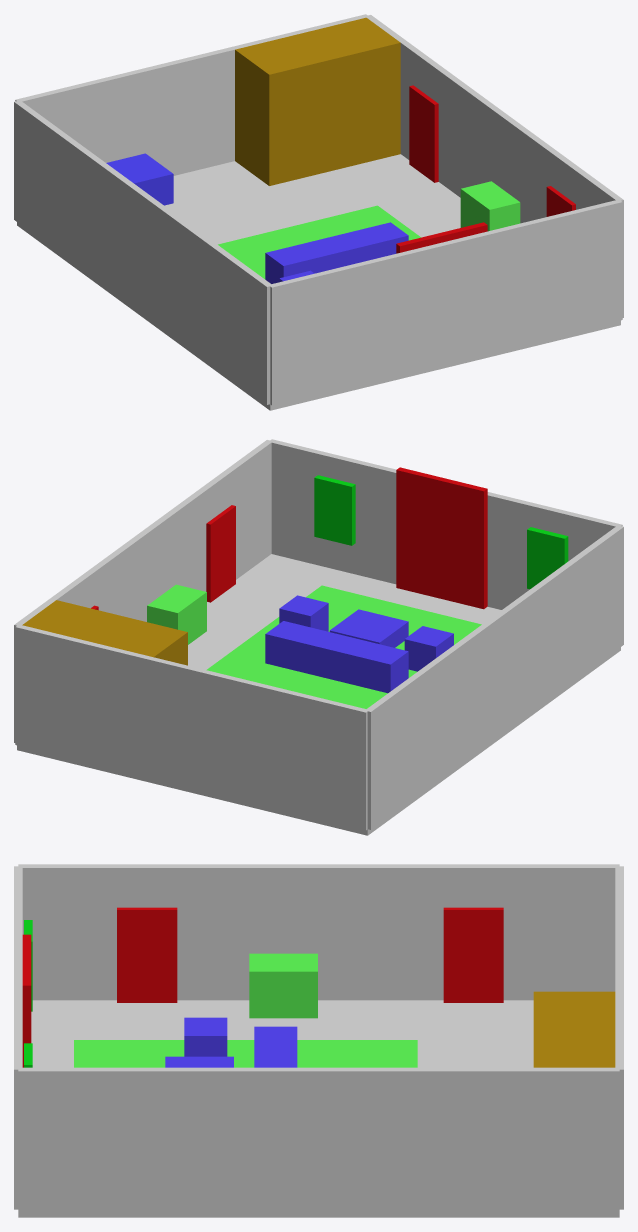
The model's file is Official_Scene_2_LivingRoom.gltf.
The picture shows the model from 3 angles, top to bottom: view 1: azimuth 30°, elevation 25°; view 2: azimuth 150°, elevation 25°; view 3: azimuth 270°, elevation 25°; orthographic projection. The views are drawn at different scales.
Visible parts, largest first — view 1: Ground2; view 2: Ground2; view 3: Ground2.
Boxes of the visible parts, <box> form: Ground2: <box>14,14,623,410</box>; Ground2: <box>14,439,623,835</box>; Ground2: <box>14,864,623,1217</box>.
Bounding box in the file's own units: 57 × 20 × 71.
